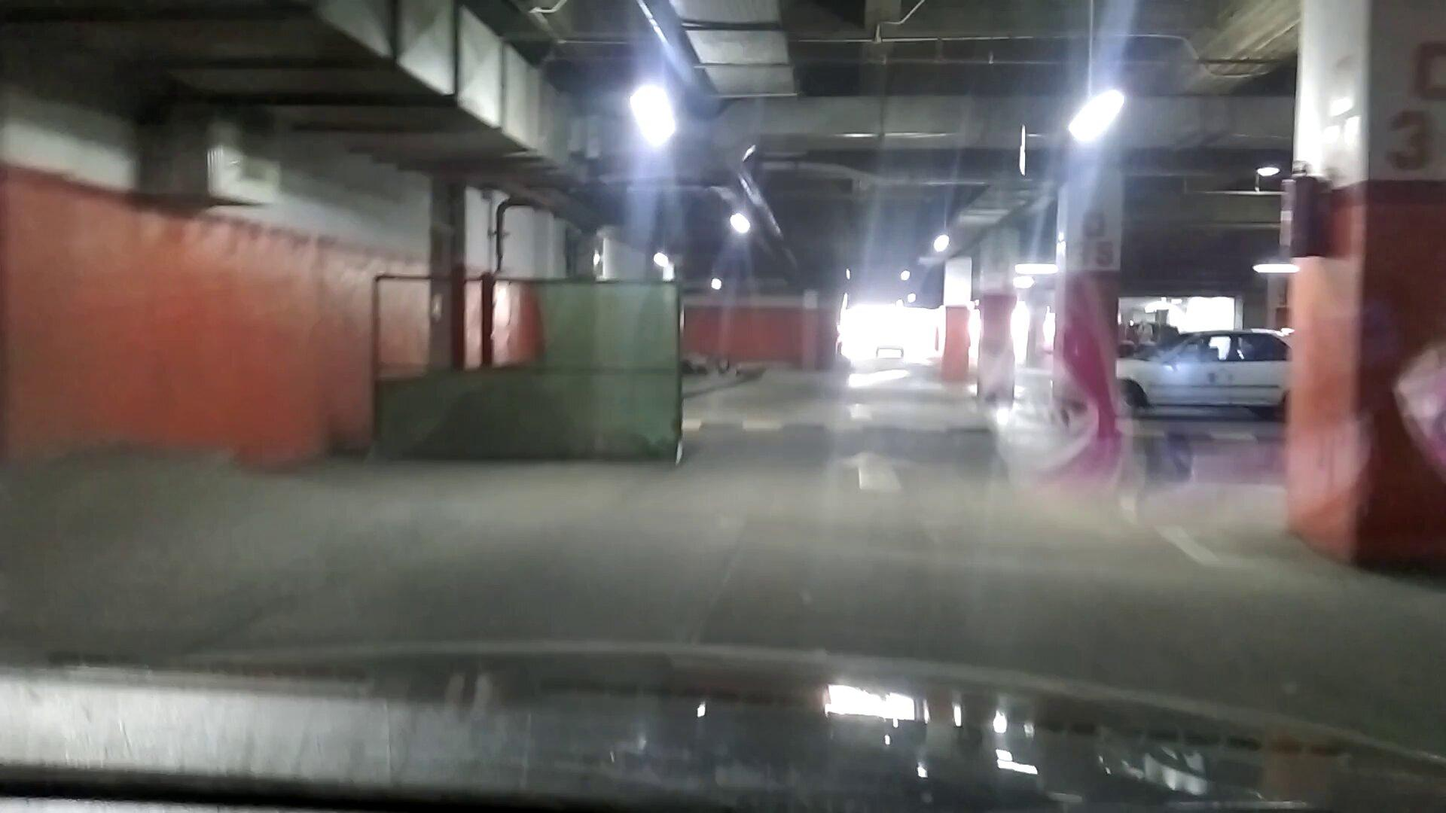Bump: (672, 416, 1043, 440), (1137, 433, 1282, 450)
